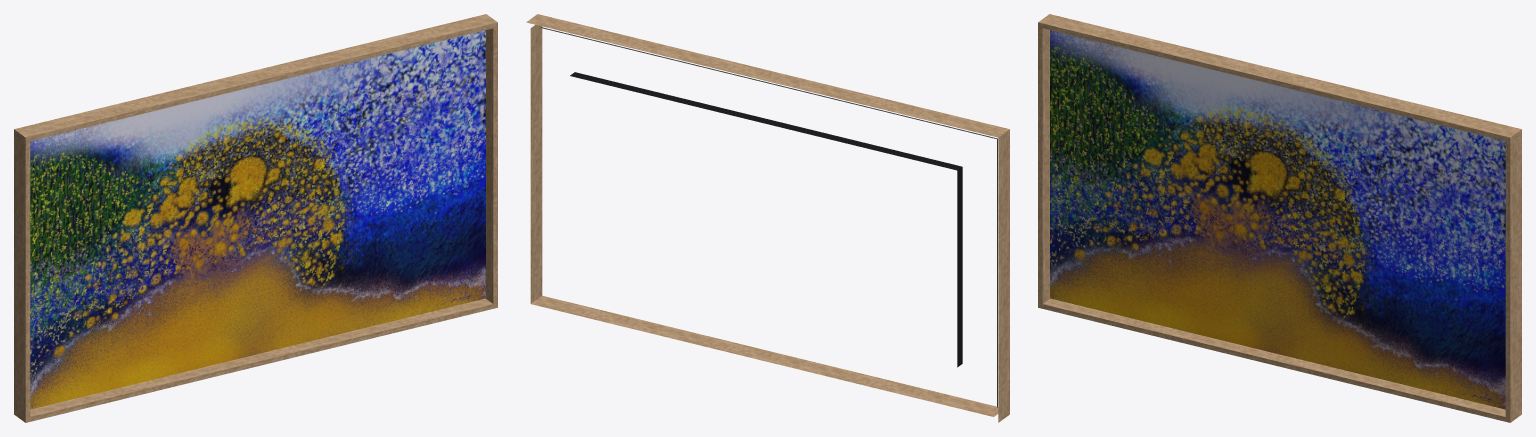
Rendered from hz002_moyen_caisse-chene.glb.
3 views of the same model, side by side, from view 1: azimuth 30°, elevation 25°; view 2: azimuth 150°, elevation 25°; view 3: azimuth 330°, elevation 25° (orthographic).
Visible parts, largest first — view 1: hz002_moyen_caisse-chene; view 2: hz002_moyen_caisse-chene; view 3: hz002_moyen_caisse-chene.
Part boxes in pixels (x1=…): hz002_moyen_caisse-chene: x1=14, y1=14, x2=497, y2=422; hz002_moyen_caisse-chene: x1=526, y1=14, x2=1009, y2=422; hz002_moyen_caisse-chene: x1=1038, y1=14, x2=1521, y2=422.
Bounding box in the file's own units: 0.828 × 0.478 × 0.035.
Materials: 4 (2 with a texture image).
